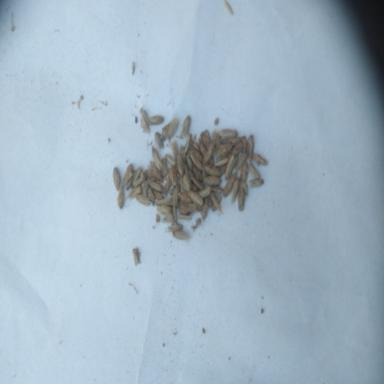pbw: (214, 142, 232, 162), (223, 172, 237, 197), (148, 160, 164, 180), (167, 118, 178, 147), (224, 156, 237, 180), (116, 186, 129, 209), (124, 185, 141, 200), (140, 108, 150, 133), (240, 161, 248, 192), (122, 163, 133, 185), (152, 146, 162, 170), (188, 191, 203, 207), (147, 178, 164, 192), (180, 115, 191, 136), (190, 150, 202, 169), (246, 134, 254, 162), (228, 142, 242, 158), (231, 178, 240, 202), (200, 130, 212, 148), (218, 129, 237, 140), (204, 144, 214, 164), (178, 203, 196, 214), (203, 176, 222, 186), (236, 152, 247, 169), (190, 175, 204, 188), (178, 191, 193, 203), (205, 164, 220, 176), (252, 152, 267, 164), (160, 122, 170, 140), (172, 230, 190, 240), (249, 163, 260, 179), (170, 166, 178, 188), (132, 248, 142, 265), (177, 153, 184, 176), (201, 196, 208, 219), (212, 194, 222, 210), (168, 221, 182, 232), (136, 194, 150, 205), (155, 132, 164, 149), (193, 166, 203, 181), (164, 154, 176, 166), (238, 187, 244, 211), (113, 167, 119, 191), (156, 197, 174, 205), (173, 184, 180, 204), (185, 134, 192, 154), (198, 187, 211, 197), (152, 189, 164, 199), (163, 178, 170, 195), (180, 145, 186, 164), (150, 116, 164, 124), (214, 158, 228, 166), (249, 179, 264, 186), (172, 141, 178, 158), (194, 150, 203, 161), (148, 186, 154, 201), (210, 186, 224, 192), (241, 136, 246, 152), (177, 215, 191, 220)
